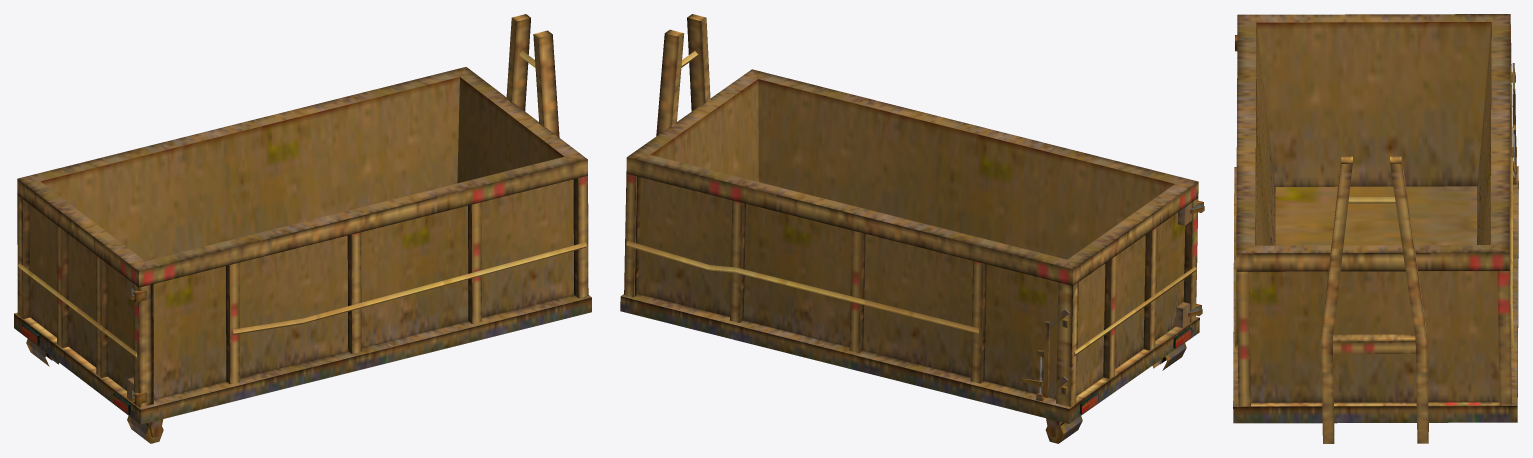
The model's file is LookumB.FBX.
The picture shows the model from 3 angles, left to right: view 1: azimuth 30°, elevation 25°; view 2: azimuth 150°, elevation 25°; view 3: azimuth 270°, elevation 25°; orthographic projection. The views are drawn at different scales.
Parts seen in each view (by area): view 1: LookumB; view 2: LookumB; view 3: LookumB.
Part boxes in pixels (box(x1,y1,x2,y2)): LookumB: box(14, 14, 591, 443); LookumB: box(620, 14, 1204, 443); LookumB: box(1233, 14, 1518, 443).
Bounding box in the file's own units: 304 × 165 × 145.
1 material, 1 textured.
